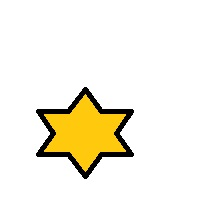star: (36, 86, 133, 180)
